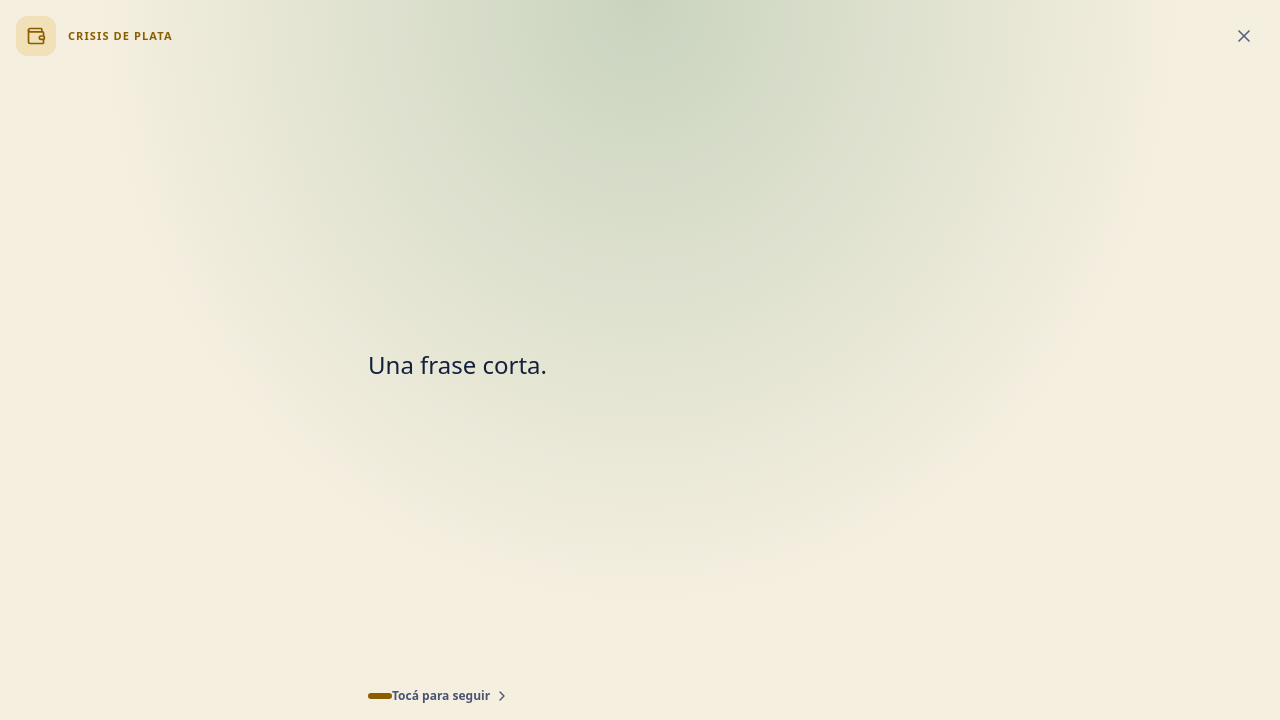
Scenario: en la pantalla completa › un evento de FINANCIAL_CRISIS propone su minijuego propio (BALANCE)
The image size is (1280, 720).
Click the button with aria-label "Seguir leyendo": (640, 384) [368,64,912,704]
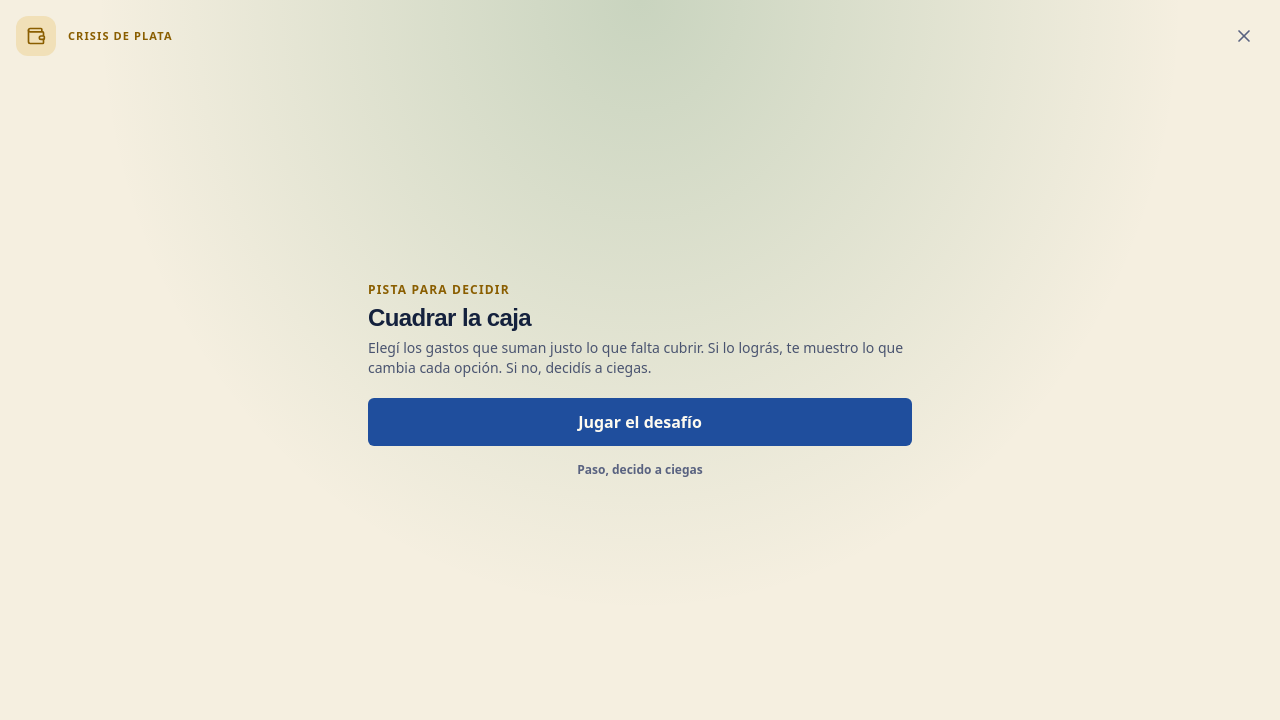
Expected: the heading "Cuadrar la caja" is shown, [368,304,531,331]
Expected: the button "Jugar el desafío" is shown, [368,398,912,446]
